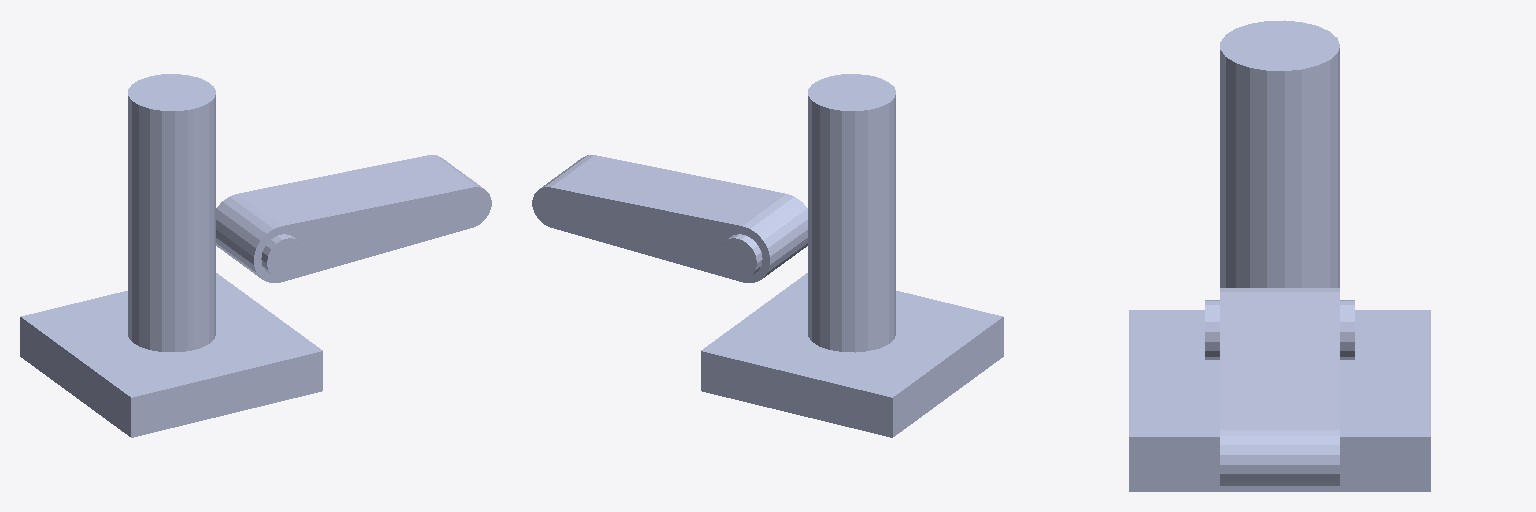
robot.urdf — assem:
<?xml version="1.0" encoding="utf-8"?>
<!-- This URDF was automatically created by SolidWorks to URDF Exporter! Originally created by [author] ([email redacted]) 
     Commit Version: 1.6.0-4-g7f85cfe  Build Version: 1.6.7995.38578
     For more information, please see http://wiki.ros.org/sw_urdf_exporter -->
<robot
  name="assem">
  <link
    name="base_link">
    <inertial>
      <origin
        xyz="2.0817E-17 0 0.20045"
        rpy="0 0 0" />
      <mass
        value="43.85" />
      <inertia
        ixx="2.4708"
        ixy="-3.4694E-17"
        ixz="1.4478E-16"
        iyy="2.4708"
        iyz="-6.3987E-18"
        izz="1.1359" />
    </inertial>
    <visual>
      <origin
        xyz="0 0 0"
        rpy="0 0 0" />
      <geometry>
        <mesh
          filename="package://assem/meshes/base_link.STL" />
      </geometry>
      <material
        name="">
        <color
          rgba="0.79216 0.81961 0.93333 1" />
      </material>
    </visual>
    <collision>
      <origin
        xyz="0 0 0"
        rpy="0 0 0" />
      <geometry>
        <mesh
          filename="package://assem/meshes/base_link.STL" />
      </geometry>
    </collision>
  </link>
  <link
    name="linl1">
    <inertial>
      <origin
        xyz="0 -0.14955 -1.1102E-16"
        rpy="0 0 0" />
      <mass
        value="43.85" />
      <inertia
        ixx="2.4708"
        ixy="1.6072E-16"
        ixz="3.4694E-17"
        iyy="1.1359"
        iyz="-3.1554E-18"
        izz="2.4708" />
    </inertial>
    <visual>
      <origin
        xyz="0 0 0"
        rpy="0 0 0" />
      <geometry>
        <mesh
          filename="package://assem/meshes/linl1.STL" />
      </geometry>
      <material
        name="">
        <color
          rgba="0.79216 0.81961 0.93333 1" />
      </material>
    </visual>
    <collision>
      <origin
        xyz="0 0 0"
        rpy="0 0 0" />
      <geometry>
        <mesh
          filename="package://assem/meshes/linl1.STL" />
      </geometry>
    </collision>
  </link>
  <joint
    name="joint1"
    type="prismatic">
    <origin
      xyz="0 0 0.35"
      rpy="1.5708 0 0" />
    <parent
      link="base_link" />
    <child
      link="linl1" />
    <axis
      xyz="0 1 0" />
    <limit
      lower="0"
      upper="0.5"
      effort="300"
      velocity="3" />
  </joint>
  <link
    name="link2">
    <inertial>
      <origin
        xyz="0.21724 0 -0.125"
        rpy="0 0 0" />
      <mass
        value="14.727" />
      <inertia
        ixx="0.070229"
        ixy="-2.2622E-18"
        ixz="-2.821E-17"
        iyy="0.49083"
        iyz="1.3056E-20"
        izz="0.45551" />
    </inertial>
    <visual>
      <origin
        xyz="0 0 0"
        rpy="0 0 0" />
      <geometry>
        <mesh
          filename="package://assem/meshes/link2.STL" />
      </geometry>
      <material
        name="">
        <color
          rgba="0.79216 0.81961 0.93333 1" />
      </material>
    </visual>
    <collision>
      <origin
        xyz="0 0 0"
        rpy="0 0 0" />
      <geometry>
        <mesh
          filename="package://assem/meshes/link2.STL" />
      </geometry>
    </collision>
  </link>
  <joint
    name="joint2"
    type="revolute">
    <origin
      xyz="0.225 -0.065 0.125"
      rpy="0 0 0" />
    <parent
      link="linl1" />
    <child
      link="link2" />
    <axis
      xyz="0 0 1" />
    <limit
      lower="-785"
      upper="785"
      effort="100"
      velocity="5" />
  </joint>
</robot>

--- What the picture shows (computed from the rendered views, not written in the file) ---
The picture shows the robot from 3 angles, left to right: view 1: azimuth 30°, elevation 25°; view 2: azimuth 150°, elevation 25°; view 3: azimuth 270°, elevation 25°; orthographic projection.
Model assem with 3 links and 2 joints (1 revolute, 1 prismatic), rooted at base_link, posed all joints at 0.
Visible links, largest first — view 1: base_link, link2; view 2: base_link, link2; view 3: base_link, link2.
Link boxes in pixels (x1=…): base_link: x1=20, y1=74, x2=322, y2=437; link2: x1=216, y1=155, x2=491, y2=282; base_link: x1=701, y1=74, x2=1003, y2=437; link2: x1=532, y1=155, x2=807, y2=282; base_link: x1=1129, y1=20, x2=1430, y2=491; link2: x1=1205, y1=288, x2=1354, y2=486.
Size in the robot's own frame: 1.02 by 0.5 by 0.7 metres.
Meshes: 3 distinct files referenced, 2 mesh visuals loaded (2 binary STL); not drawn: 1 (reference not matched to a file when rendering).